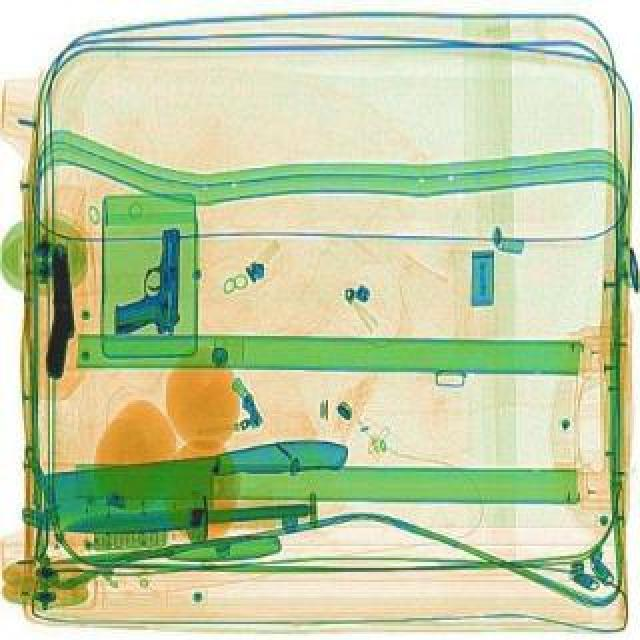gun: (114, 226, 182, 334), (42, 244, 76, 376)
knife: (38, 434, 354, 538), (44, 526, 280, 574), (60, 496, 308, 536)
